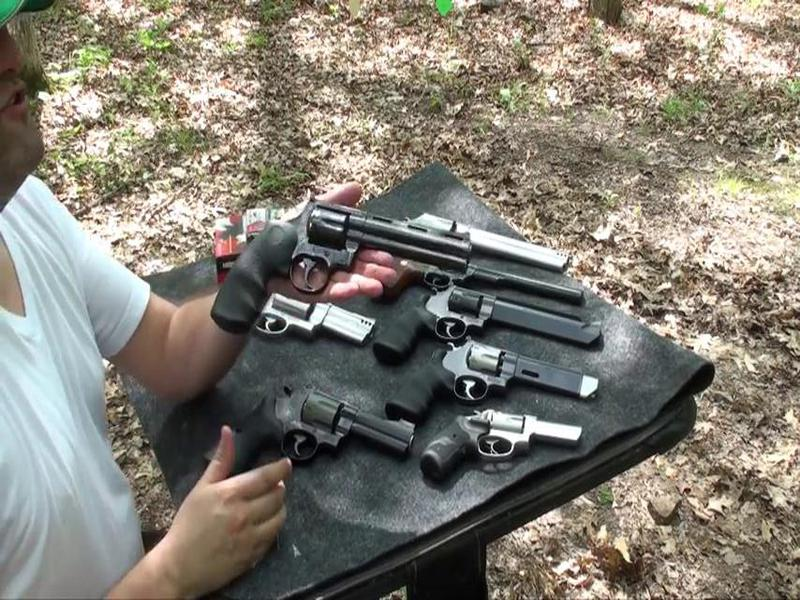Revolver: (204, 177, 477, 372)
